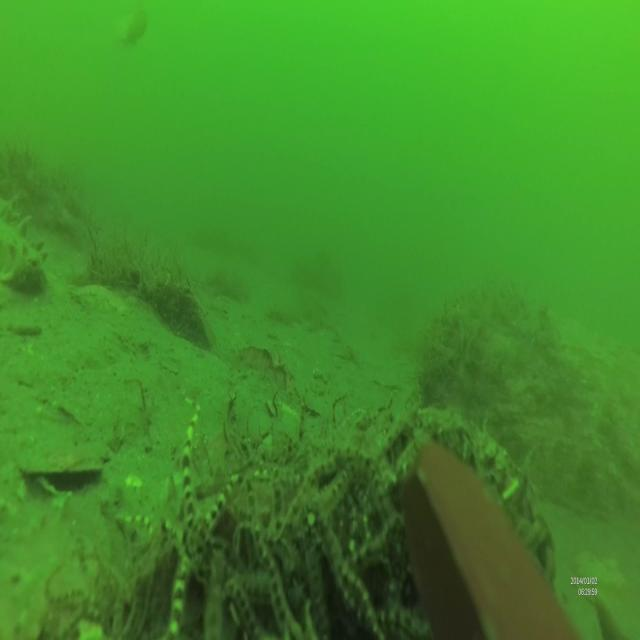holothurian: (0, 197, 49, 298)
scallop: (17, 439, 101, 504)
starfish: (112, 409, 268, 640)
